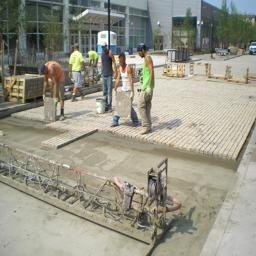no hat: (134, 42, 151, 63), (116, 51, 129, 71), (37, 63, 50, 80), (70, 43, 84, 54), (101, 43, 111, 55), (85, 53, 90, 60)
no vest: (117, 64, 137, 101), (139, 56, 157, 96), (46, 61, 69, 89), (99, 51, 114, 86), (66, 51, 84, 78), (88, 48, 100, 70)
